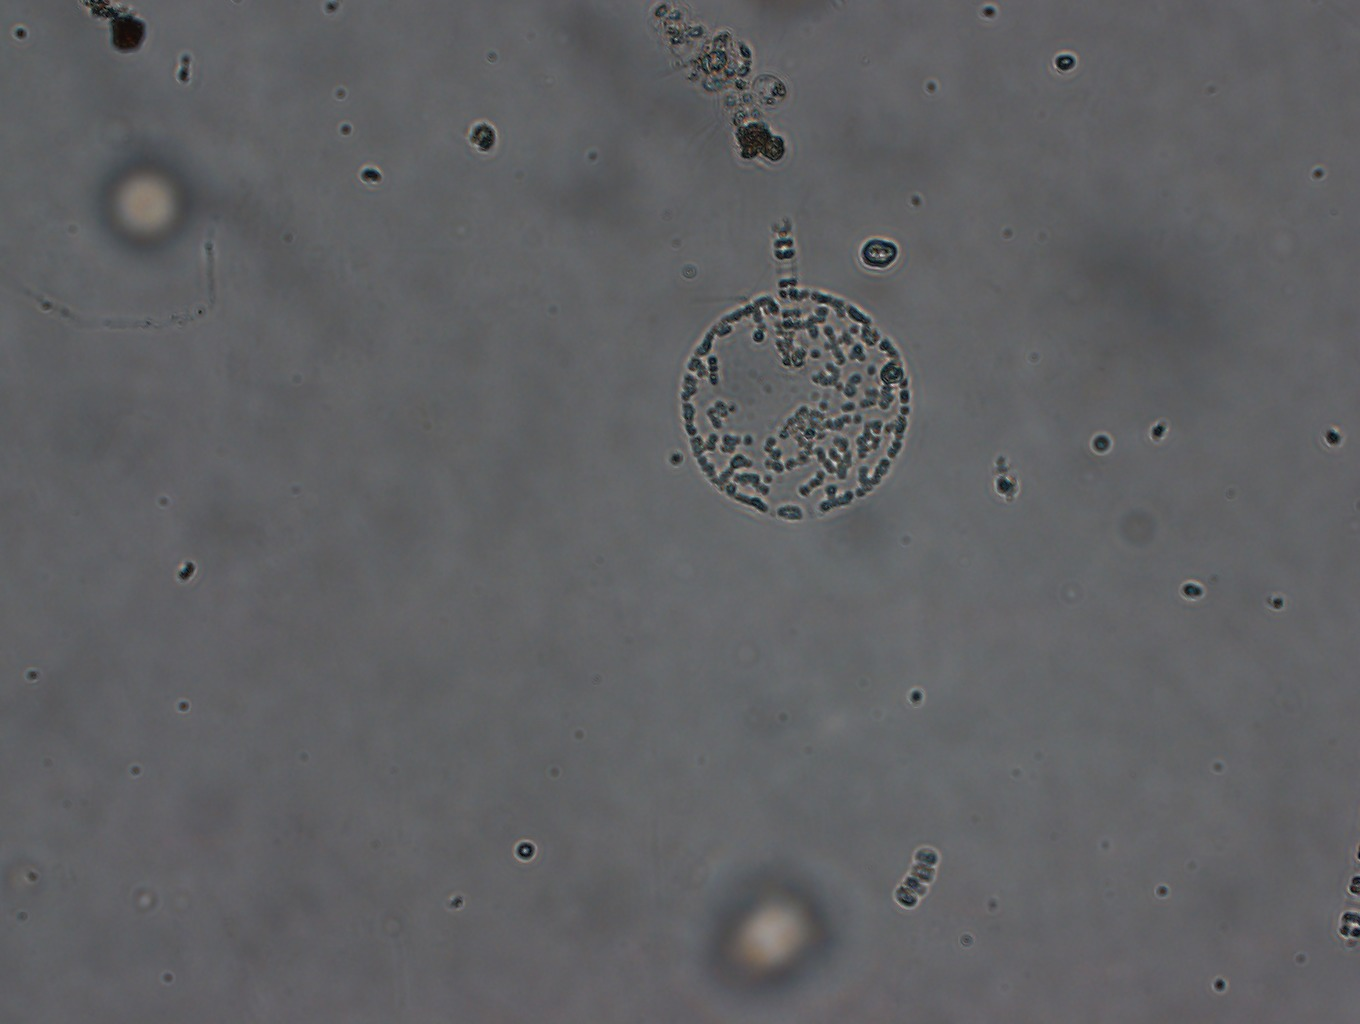coscinodiscus: (679, 287, 912, 524)
